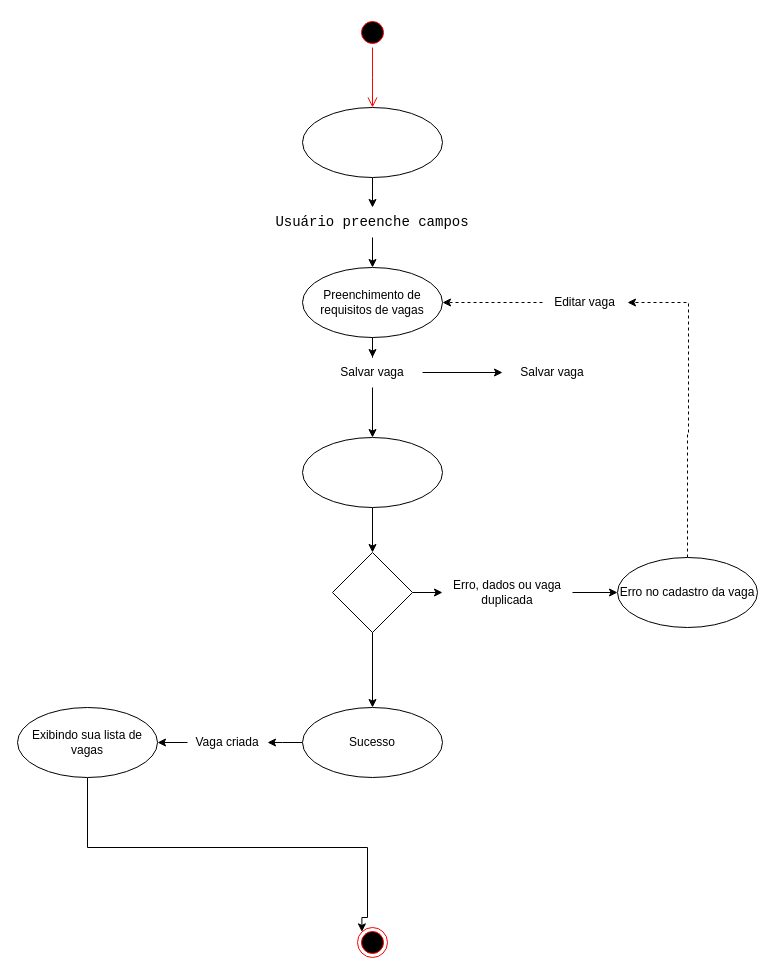
Image size: 775x975. Some labels were removed from this diagram. Each missing label, with the box of its shape:
Enviando vagas: (302, 436, 442, 508)
Exibindo formulario de nova vaga: (302, 106, 442, 178)
